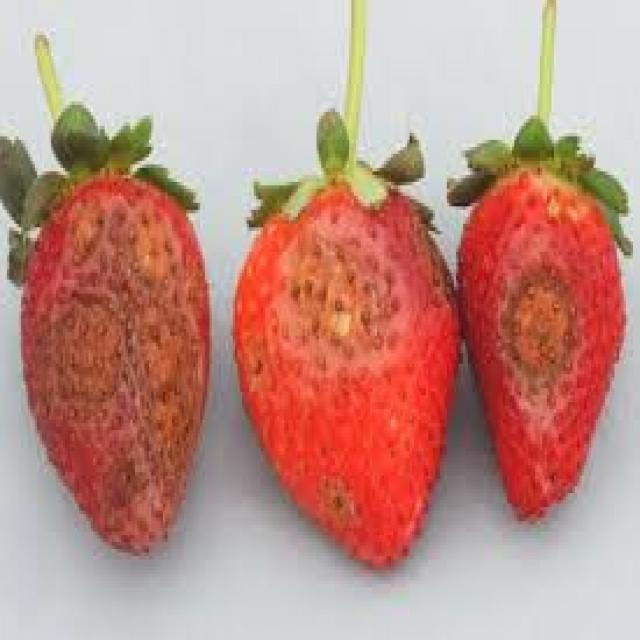Mancha negra Antracnosis: (235, 185, 460, 563), (20, 170, 214, 548), (462, 147, 624, 521)
